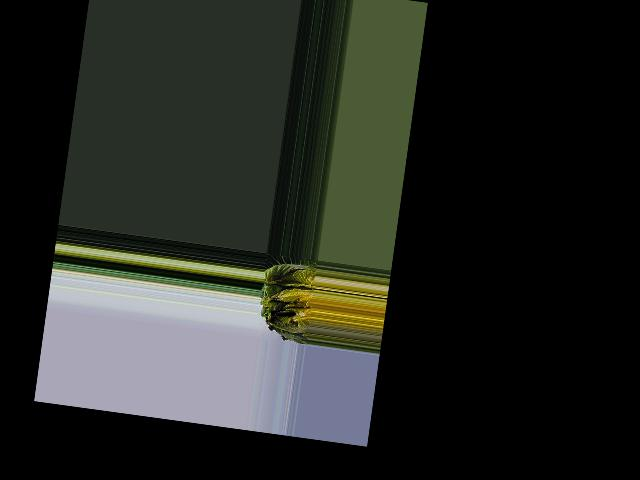lettuce: (257, 253, 318, 341)
